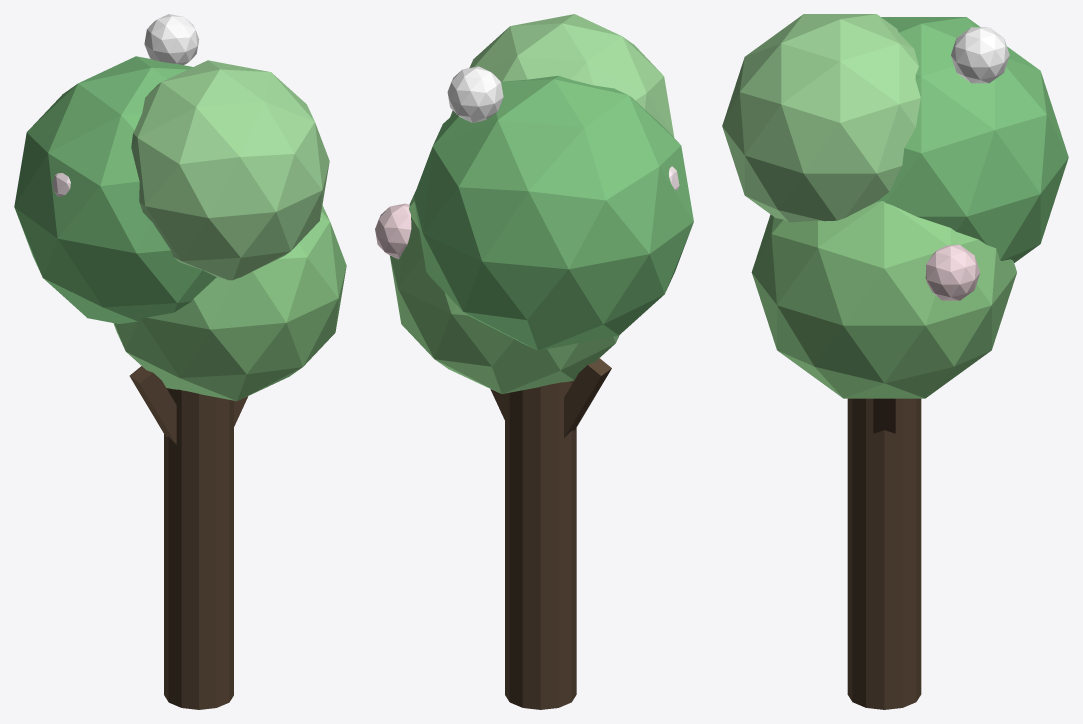
File: oak_tree_spring.glb
3 renders of one model, left to right at view 1: azimuth 30°, elevation 25°; view 2: azimuth 150°, elevation 25°; view 3: azimuth 270°, elevation 25°, orthographic. The views are drawn at different scales.
Visible parts, largest first — view 1: OakTree_Spring; view 2: OakTree_Spring; view 3: OakTree_Spring.
Part boxes in pixels (bbox=[...]): OakTree_Spring: bbox=[14, 14, 346, 709]; OakTree_Spring: bbox=[375, 14, 693, 709]; OakTree_Spring: bbox=[722, 14, 1068, 709].
Bounding box in the file's own units: 0.4514 × 1.01 × 0.47.
